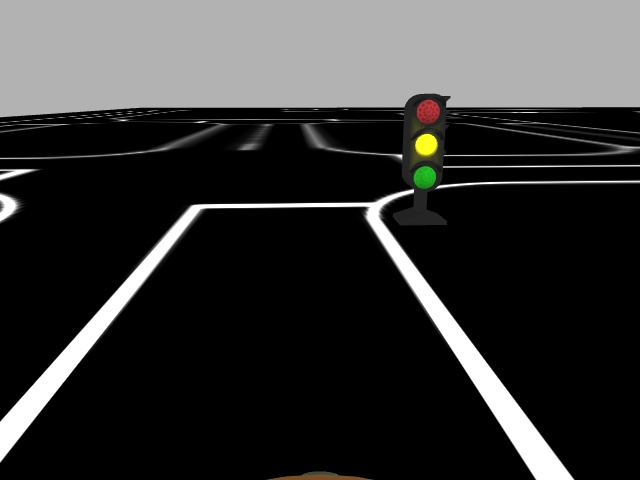yellow_light: (405, 94, 449, 192)
